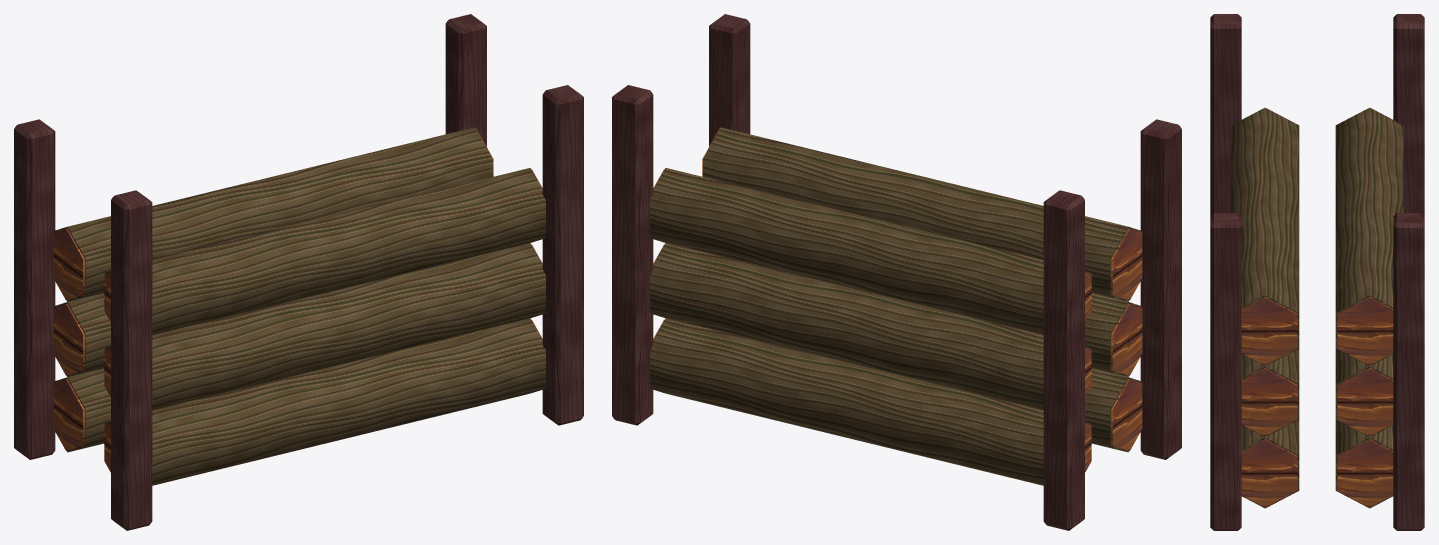
Rendered from Firewood_Rack.fbx.
3 renders of one model, left to right at view 1: azimuth 30°, elevation 25°; view 2: azimuth 150°, elevation 25°; view 3: azimuth 270°, elevation 25°, orthographic. The views are drawn at different scales.
Visible parts, largest first — view 1: Split firewood, Split firewood.002, Split firewood.004, Split firewood.005, Rack leg, Rack leg.001, Rack leg.002, Rack leg.003, Split firewood.001, Split firewood.003, Split firewood cut end.006, Split firewood cut end.010 (+1 smaller); view 2: Split firewood.001, Split firewood.003, Split firewood.005, Split firewood.004, Rack leg.001, Rack leg, Rack leg.003, Rack leg.002, Split firewood, Split firewood.002, Split firewood cut end.004, Split firewood cut end.008 (+1 smaller); view 3: Split firewood.004, Split firewood.005, Rack leg.002, Rack leg.003, Rack leg, Rack leg.001, Split firewood cut end.005, Split firewood cut end.007, Split firewood cut end.001, Split firewood cut end.003, Split firewood cut end.009, Split firewood cut end.011 (+4 smaller).
Boxes of the visible parts, box(x1,y1,x2,y2) form: Split firewood: box(105, 318, 545, 485); Split firewood.002: box(105, 243, 545, 410); Split firewood.004: box(105, 168, 545, 335); Split firewood.005: box(54, 127, 492, 301); Rack leg: box(111, 190, 152, 530); Rack leg.001: box(14, 119, 55, 459); Rack leg.002: box(542, 85, 583, 425); Rack leg.003: box(445, 14, 486, 146); Split firewood.001: box(54, 368, 110, 452); Split firewood.003: box(54, 293, 110, 376); Split firewood cut end.006: box(53, 303, 84, 375); Split firewood cut end.010: box(53, 228, 84, 300); Split firewood.001: box(650, 318, 1090, 485); Split firewood.003: box(650, 243, 1090, 410); Split firewood.005: box(650, 168, 1090, 335); Split firewood.004: box(703, 127, 1141, 301); Rack leg.001: box(1043, 190, 1084, 530); Rack leg: box(1140, 119, 1181, 459); Rack leg.003: box(612, 85, 653, 425); Rack leg.002: box(709, 14, 750, 146); Split firewood: box(1085, 368, 1141, 452); Split firewood.002: box(1085, 293, 1141, 376); Split firewood cut end.004: box(1111, 303, 1142, 375); Split firewood cut end.008: box(1111, 228, 1142, 300); Split firewood.004: box(1231, 107, 1299, 366); Split firewood.005: box(1335, 107, 1403, 366); Rack leg.002: box(1210, 213, 1241, 530); Rack leg.003: box(1393, 213, 1424, 530); Rack leg: box(1210, 14, 1241, 215); Rack leg.001: box(1393, 14, 1424, 215); Split firewood cut end.005: box(1241, 368, 1297, 436); Split firewood cut end.007: box(1337, 368, 1393, 436); Split firewood cut end.001: box(1241, 439, 1297, 507); Split firewood cut end.003: box(1337, 439, 1393, 507); Split firewood cut end.009: box(1241, 297, 1297, 365); Split firewood cut end.011: box(1337, 297, 1393, 365).
Size of the model in its own units: 192 by 130 by 82.
